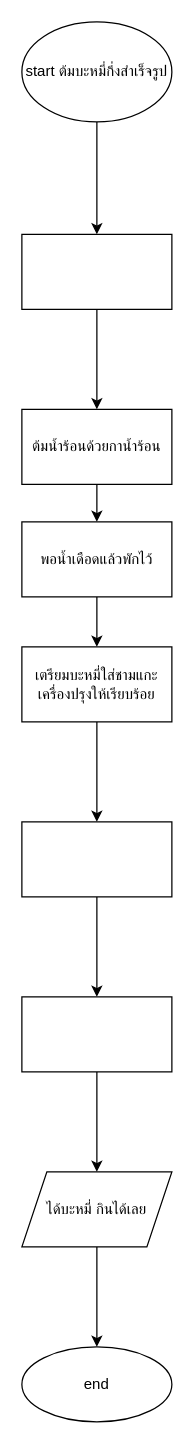
The diagram is 194 pixels wide and 1444 high, and some of its shapes have lost their labels. Each missing label, with the centre of its shape:
int บะหมี่, กาน้ำร้อนมชาม,ช้อน: (96,271)
นำน้ำร้อนมาใส่บะหมี่: (96,859)
รอ 3 นาที: (96,1034)
